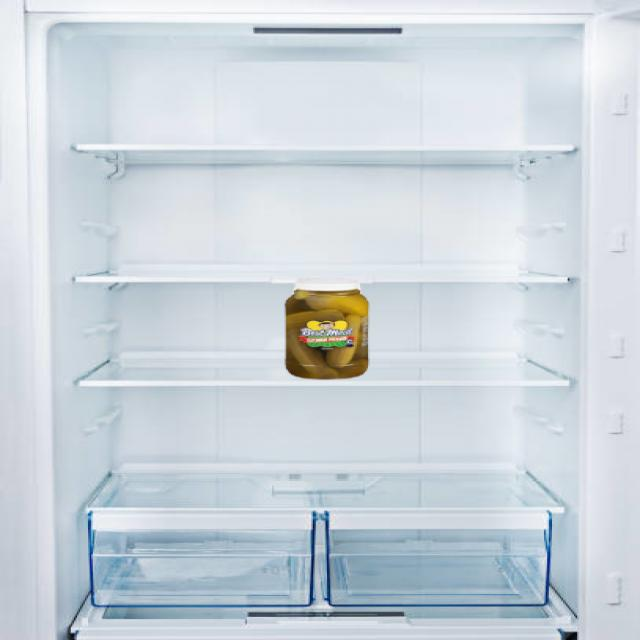pickle: (282, 278, 370, 379)
